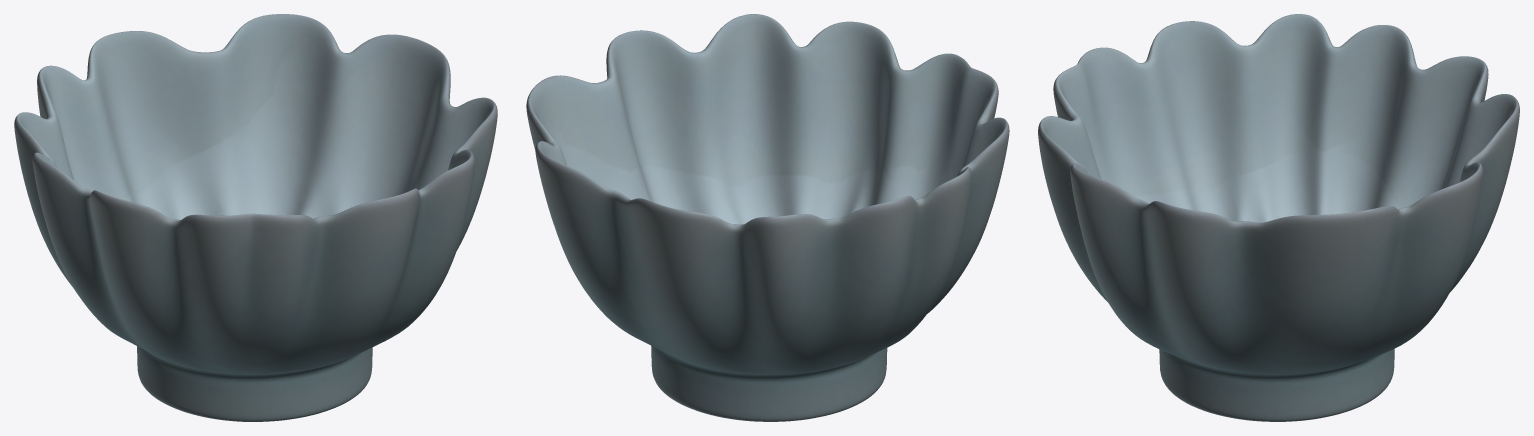
The model's file is ruyao.glb.
The picture shows the model from 3 angles, left to right: view 1: azimuth 30°, elevation 25°; view 2: azimuth 150°, elevation 25°; view 3: azimuth 270°, elevation 25°; orthographic projection.
Bounding box in the file's own units: 1.02 × 0.6077 × 1.02.
Materials: 1 (1 with a texture image).
